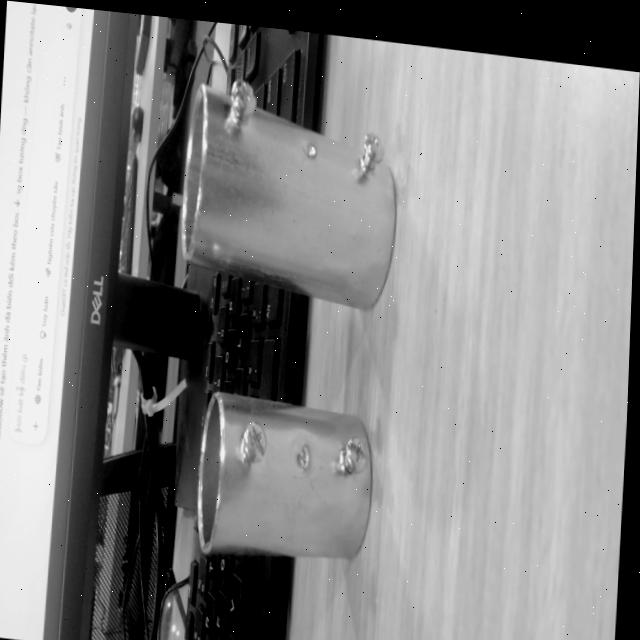Co_Lon: (152, 70, 425, 314)
Co_Nho: (194, 392, 374, 561)
